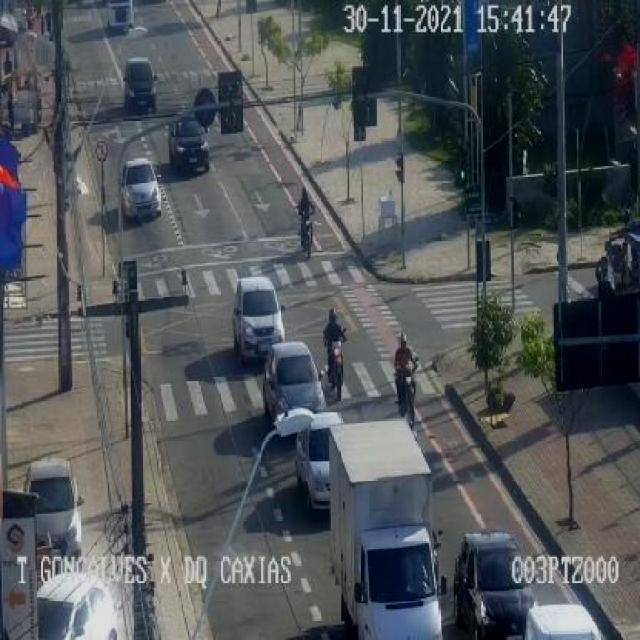Car: (452, 534, 530, 639), (22, 460, 82, 562), (35, 572, 119, 638), (262, 342, 326, 428), (292, 412, 343, 507), (232, 277, 285, 365), (523, 603, 605, 640), (120, 159, 162, 221), (168, 116, 210, 174), (123, 57, 158, 114)
Truck: (325, 422, 439, 635)
